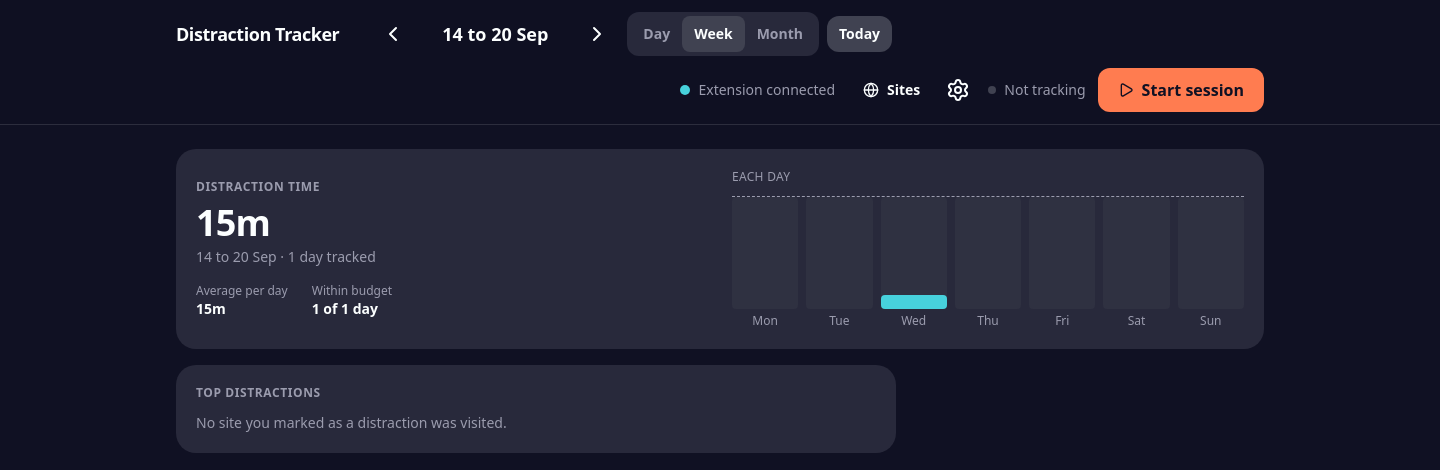
Scenario: period navigation › shows the week view, and a bar opens that day
What coordinates should you click on to do the following:
click the button named "Wed, 16 Sep: 15m of distractions"
I would click on:
 (914, 253)
Its box is 881,197 -> 947,309.
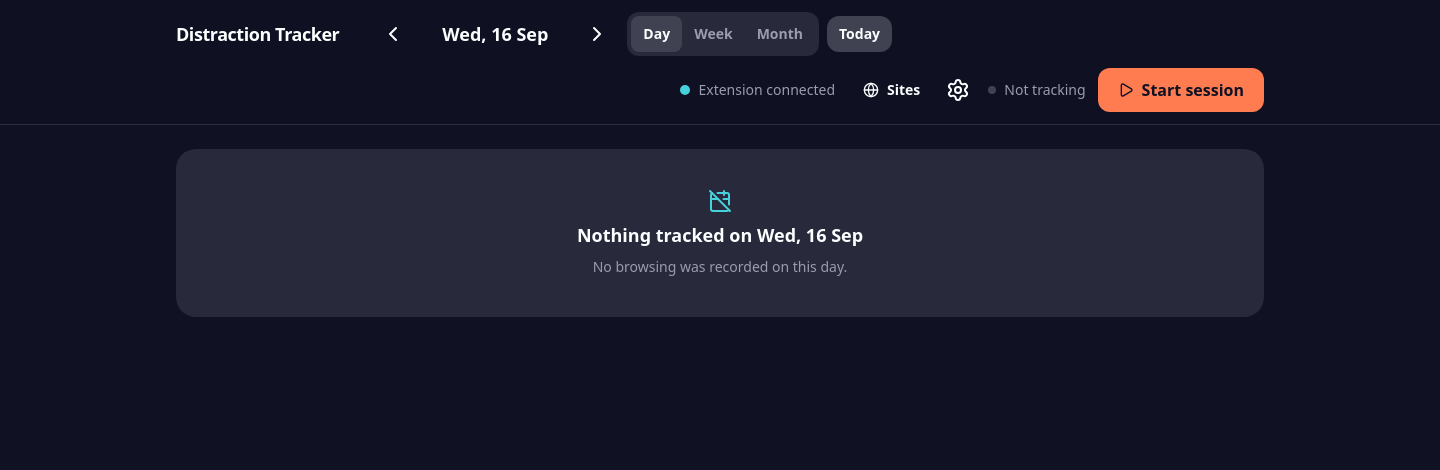
Now the heading reads "Wed, 16 Sep", box 442,22 -> 548,46
